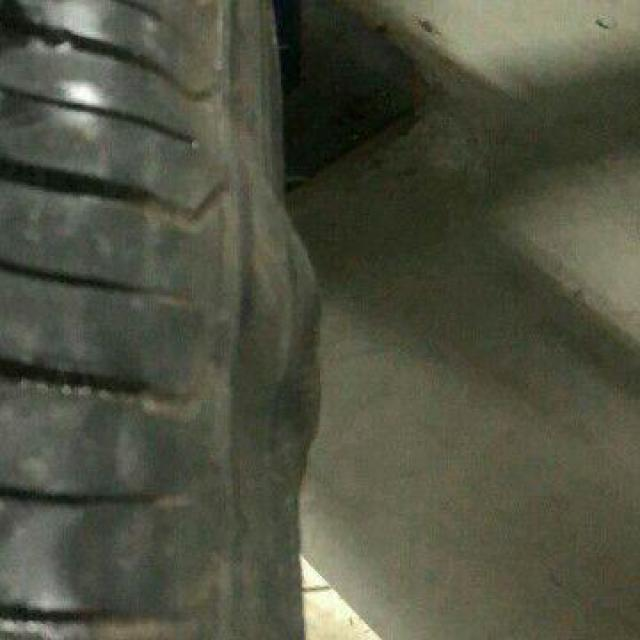Bulge: (196, 166, 344, 494)
